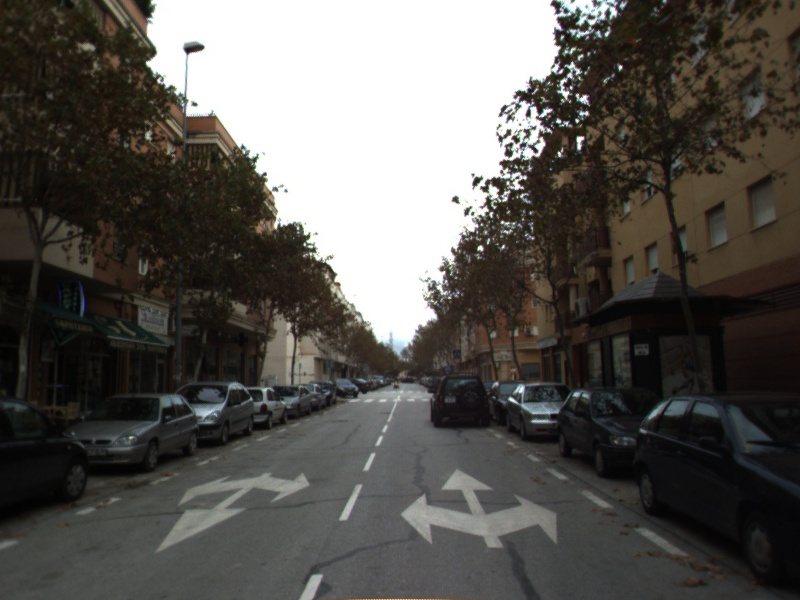STRAIGHT_LEFT_RIGHT: (398, 467, 559, 551)
